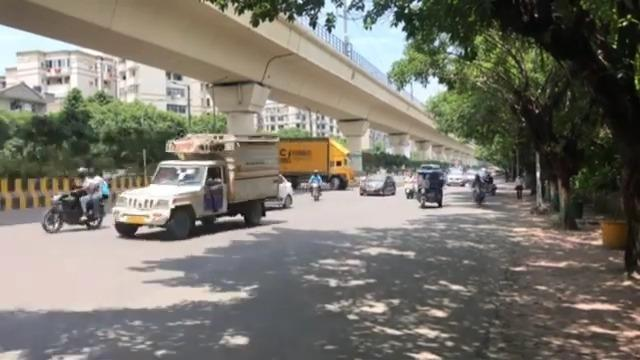Auto: (415, 163, 444, 207)
Bike: (41, 164, 106, 233), (470, 172, 488, 205), (308, 172, 322, 200), (402, 172, 416, 199)
Truck: (111, 131, 281, 239), (278, 136, 354, 190)
